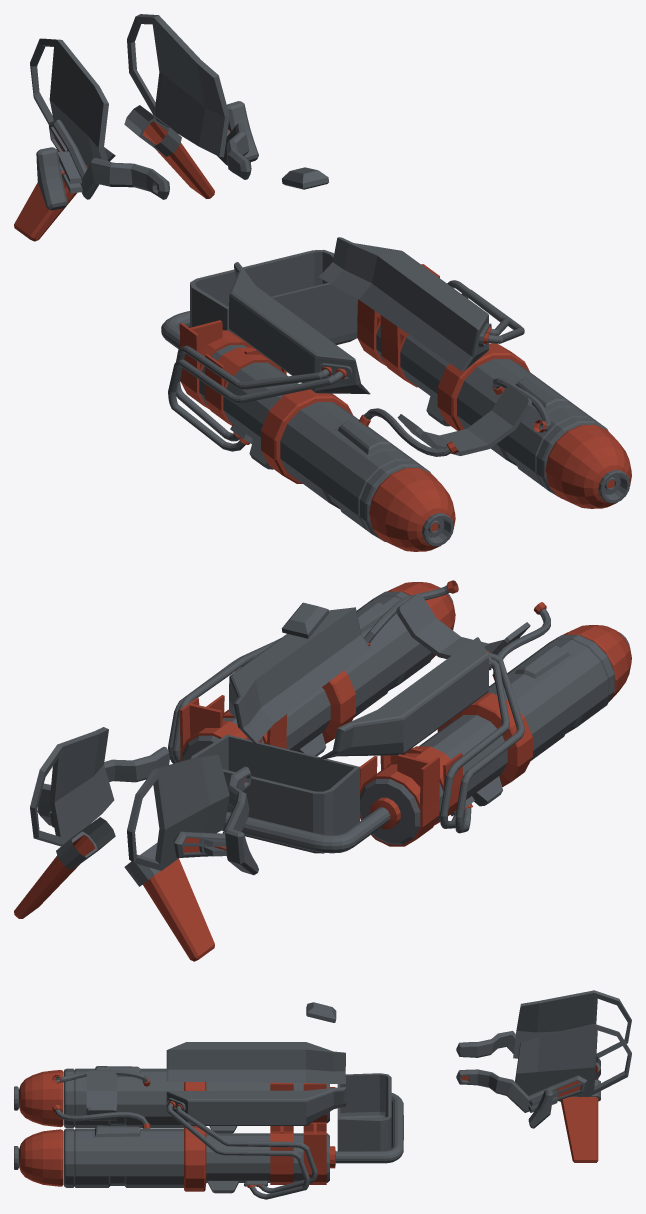
The model's file is Personal_Vehicle_03_Main_Frame_Red.fbx.
3 views of the same model, one above another, from view 1: azimuth 30°, elevation 25°; view 2: azimuth 150°, elevation 25°; view 3: azimuth 270°, elevation 25° (orthographic). The views are drawn at different scales.
Visible parts, largest first — view 1: Personal_Vehicle_03_Main_Frame_Red; view 2: Personal_Vehicle_03_Main_Frame_Red; view 3: Personal_Vehicle_03_Main_Frame_Red.
Part boxes in pixels (x1,y1,x2,y2): Personal_Vehicle_03_Main_Frame_Red: [14, 14, 631, 551]; Personal_Vehicle_03_Main_Frame_Red: [14, 580, 631, 961]; Personal_Vehicle_03_Main_Frame_Red: [14, 990, 631, 1199].
Size of the model in its own units: 177 by 128 by 465.
1 material, 1 textured.
